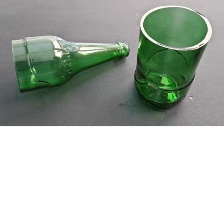bottle: (7, 31, 131, 94)
glass: (132, 3, 216, 111)
